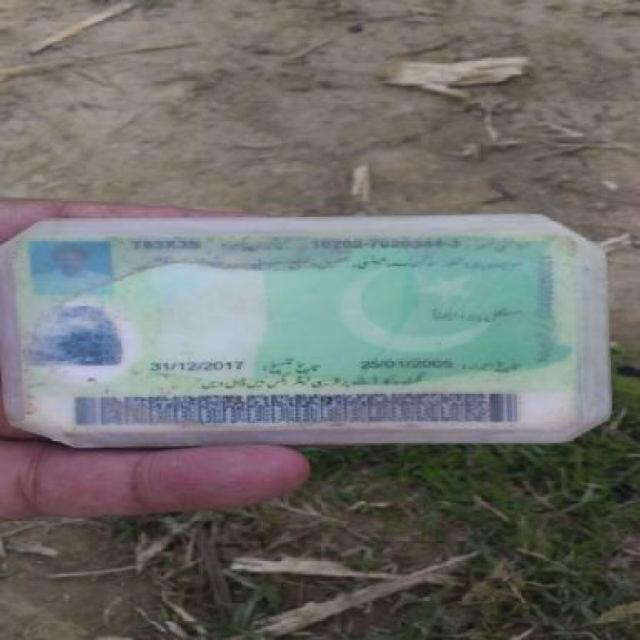Back: (12, 227, 596, 436)
